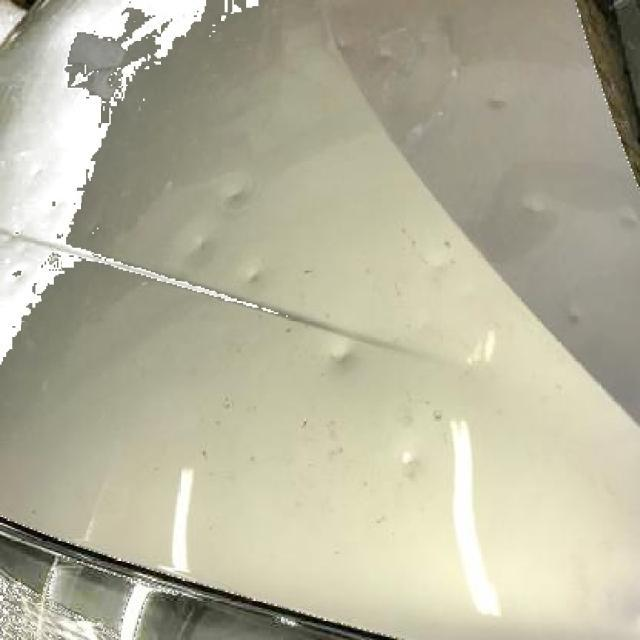dent: (521, 196, 554, 224), (397, 444, 426, 470), (189, 231, 214, 260), (218, 185, 249, 206), (329, 341, 354, 367), (331, 34, 354, 60), (563, 307, 588, 330), (621, 209, 640, 237), (12, 263, 31, 288), (246, 270, 266, 292), (489, 96, 509, 115)
